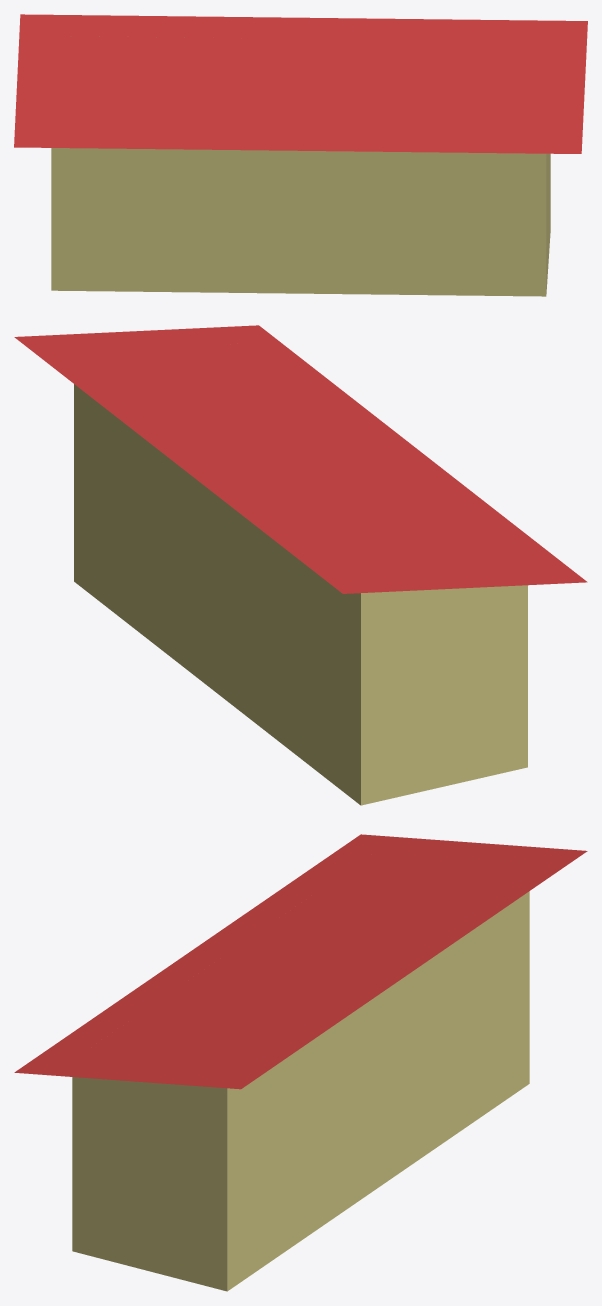
3 views of the same model, one above another, from view 1: azimuth 30°, elevation 25°; view 2: azimuth 150°, elevation 25°; view 3: azimuth 270°, elevation 25° (orthographic). The views are drawn at different scales.
Bounding box in the file's own units: 24.92 × 20.33 × 8.87.
